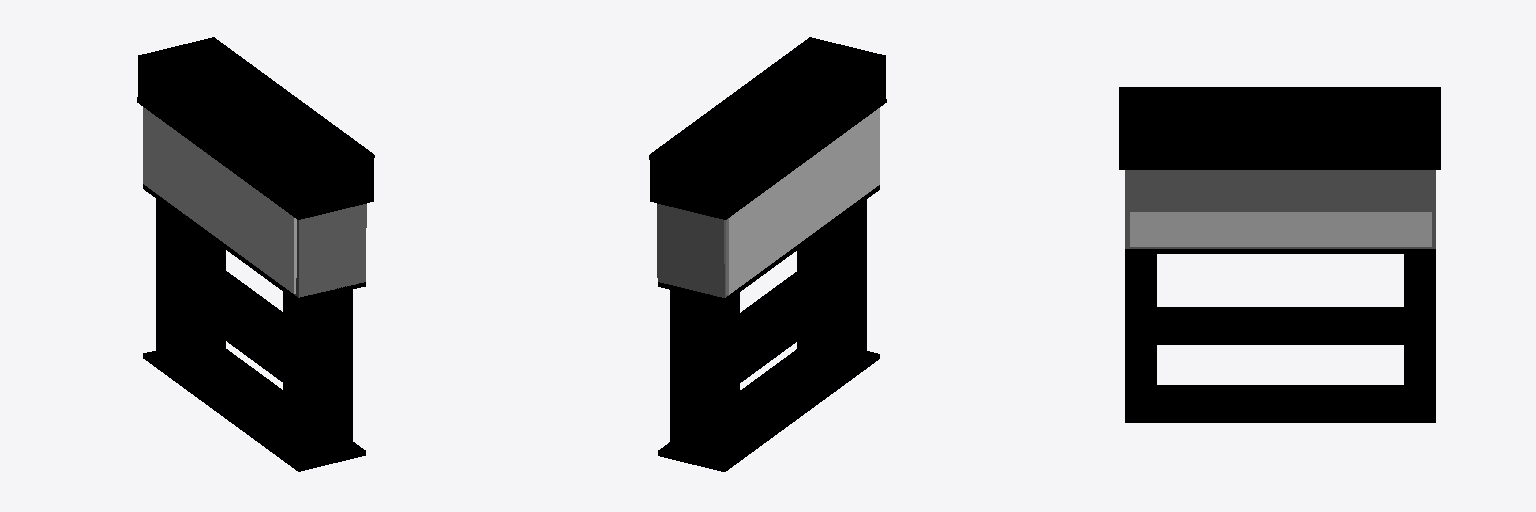
The model's file is aquarium with fish.obj.
3 views of the same model, side by side, from view 1: azimuth 30°, elevation 25°; view 2: azimuth 150°, elevation 25°; view 3: azimuth 270°, elevation 25° (orthographic).
Parts seen in each view (by area): view 1: 60, Cube_1_3_13, Cube_5_1_10, Cube_3_5, Cube_1_1_3, Cube_3_1_6, Cube_1_2_7, sweethome3d_window_pane_8, Cube_6_11, Cube_2_2, Cube_1_1, Cube_5_9; view 2: 60, Cube_1_3_13, Cube_5_1_10, Cube_3_1_6, Cube_1_1_3, Cube_3_5, Cube_1_2_7, sweethome3d_window_pane_8, Cube_6_1_12, Cube_2_1_4, Cube_1_1, Cube_5_9; view 3: Cube_5_9, sweethome3d_window_pane_8, 60, Cube_1_1_3, Cube_1_3_13, Cube_1_2_7, Cube_2_2, Cube_2_1_4, Cube_1_1, Cube_3_5, Cube_3_1_6, Cube_5_1_10.
Part boxes in pixels (bbox=[...]): 60: bbox=[143, 107, 296, 293]; Cube_1_3_13: bbox=[147, 41, 365, 169]; Cube_5_1_10: bbox=[137, 54, 302, 219]; Cube_3_5: bbox=[283, 290, 352, 456]; Cube_1_1_3: bbox=[143, 349, 365, 471]; Cube_3_1_6: bbox=[156, 199, 225, 364]; Cube_1_2_7: bbox=[159, 271, 282, 381]; sweethome3d_window_pane_8: bbox=[157, 194, 366, 297]; Cube_6_11: bbox=[301, 154, 369, 218]; Cube_2_2: bbox=[317, 294, 333, 458]; Cube_1_1: bbox=[143, 184, 365, 302]; Cube_5_9: bbox=[209, 37, 374, 201]; 60: bbox=[726, 108, 879, 294]; Cube_1_3_13: bbox=[658, 41, 876, 169]; Cube_5_1_10: bbox=[722, 55, 886, 219]; Cube_3_1_6: bbox=[670, 290, 739, 457]; Cube_1_1_3: bbox=[658, 349, 879, 471]; Cube_3_5: bbox=[797, 200, 866, 364]; Cube_1_2_7: bbox=[740, 271, 863, 382]; sweethome3d_window_pane_8: bbox=[657, 194, 866, 297]; Cube_6_1_12: bbox=[654, 154, 722, 218]; Cube_2_1_4: bbox=[689, 295, 706, 459]; Cube_1_1: bbox=[658, 185, 879, 302]; Cube_5_9: bbox=[649, 37, 813, 201]; Cube_5_9: bbox=[1119, 121, 1440, 169]; sweethome3d_window_pane_8: bbox=[1125, 170, 1435, 248]; 60: bbox=[1130, 212, 1431, 246]; Cube_1_1_3: bbox=[1125, 385, 1435, 422]; Cube_1_3_13: bbox=[1125, 90, 1434, 120]; Cube_1_2_7: bbox=[1157, 307, 1403, 344]; Cube_2_2: bbox=[1125, 254, 1150, 402]; Cube_2_1_4: bbox=[1410, 254, 1435, 402]; Cube_1_1: bbox=[1125, 249, 1435, 253]; Cube_3_5: bbox=[1151, 254, 1156, 417]; Cube_3_1_6: bbox=[1404, 254, 1409, 417]; Cube_5_1_10: bbox=[1119, 87, 1440, 89].
Size of the model in its own units: 34.2 by 129 by 124.